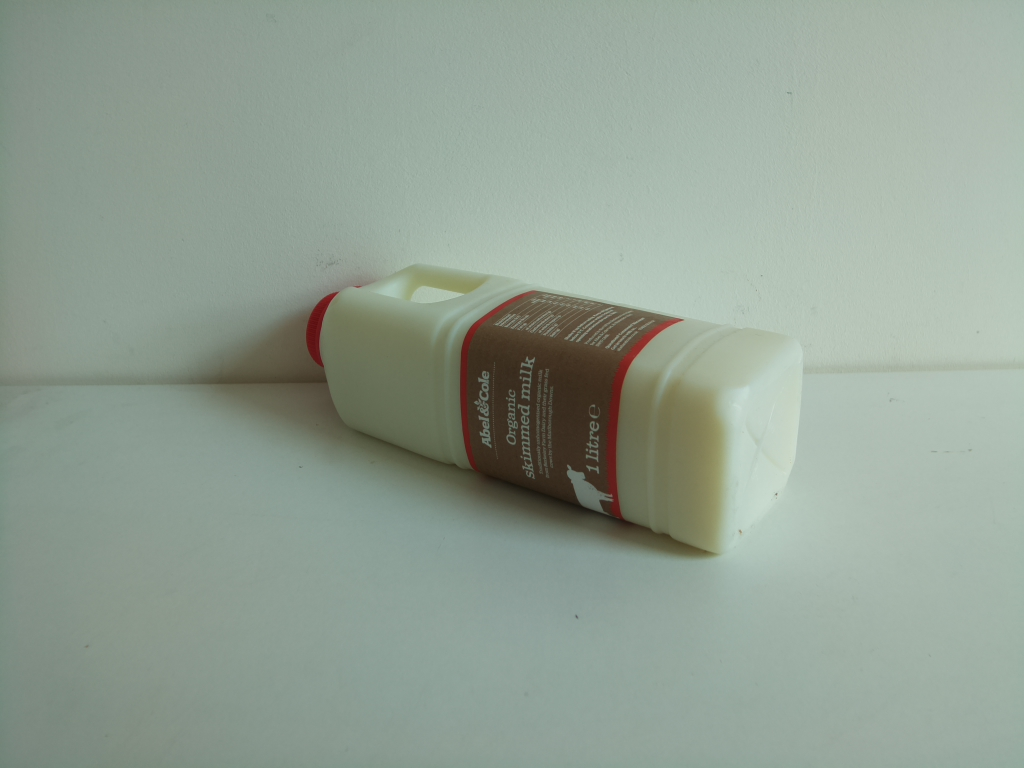milk: (305, 259, 805, 566)
